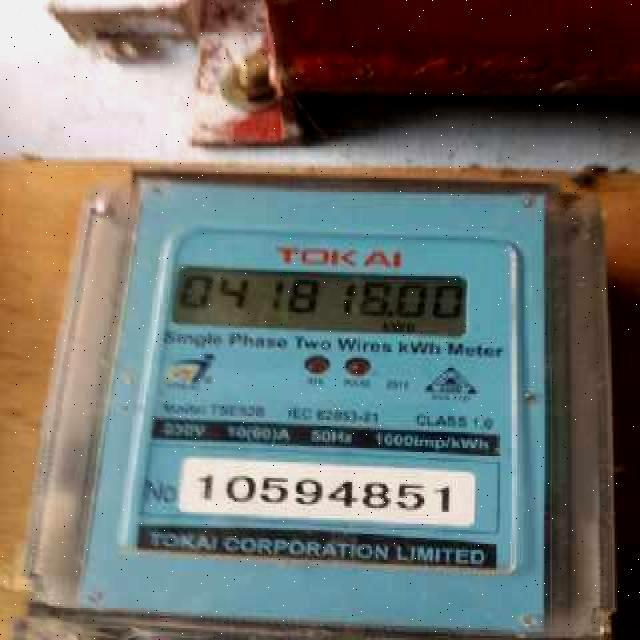LCD: (165, 260, 480, 347)
